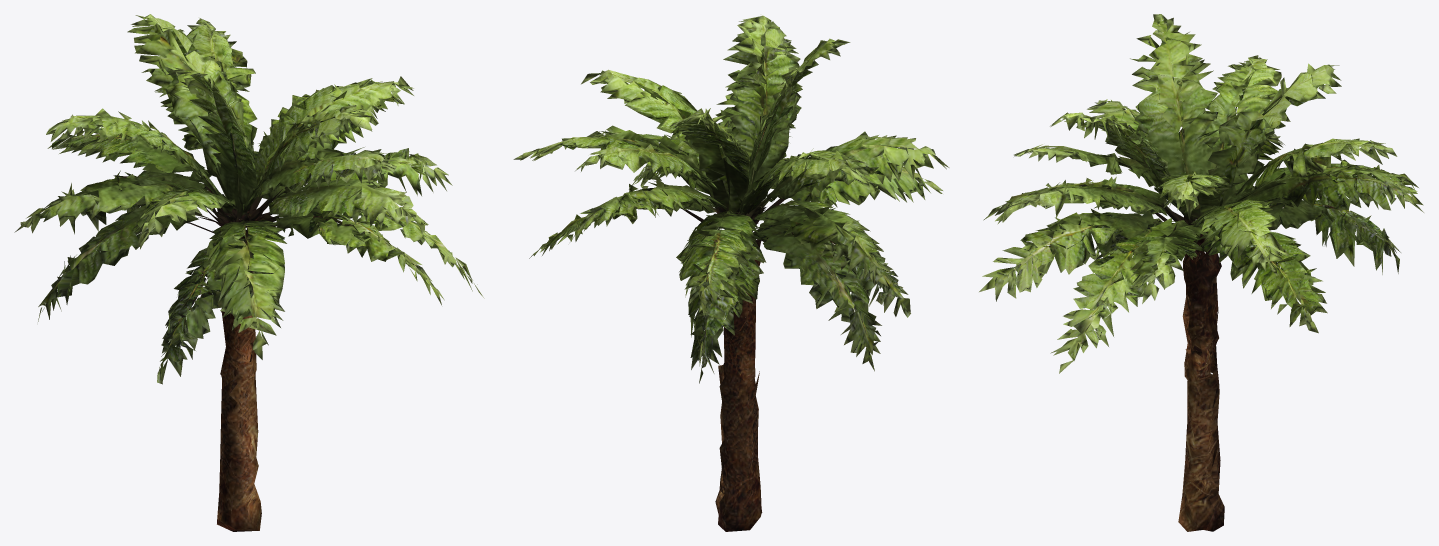
File: tree_fern_LOD1.fbx
3 views of the same model, side by side, from view 1: azimuth 30°, elevation 25°; view 2: azimuth 150°, elevation 25°; view 3: azimuth 270°, elevation 25° (orthographic). The views are drawn at different scales.
Visible parts, largest first — view 1: tree_fern.001; view 2: tree_fern.001; view 3: tree_fern.001.
Boxes of the visible parts, x1=… form: tree_fern.001: x1=14, y1=14, x2=484, y2=531; tree_fern.001: x1=513, y1=15, x2=949, y2=531; tree_fern.001: x1=979, y1=14, x2=1423, y2=531.
Size of the model in its own units: 3.19 by 4 by 3.41.
Materials: 1 (1 with a texture image).
